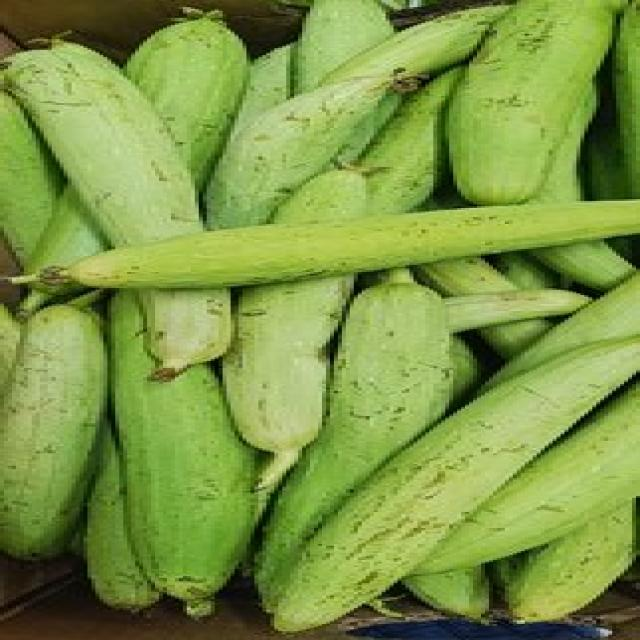Bottle Gourd: (56, 192, 636, 290), (88, 322, 248, 600), (464, 0, 580, 196)
Radish: (4, 28, 231, 380)
